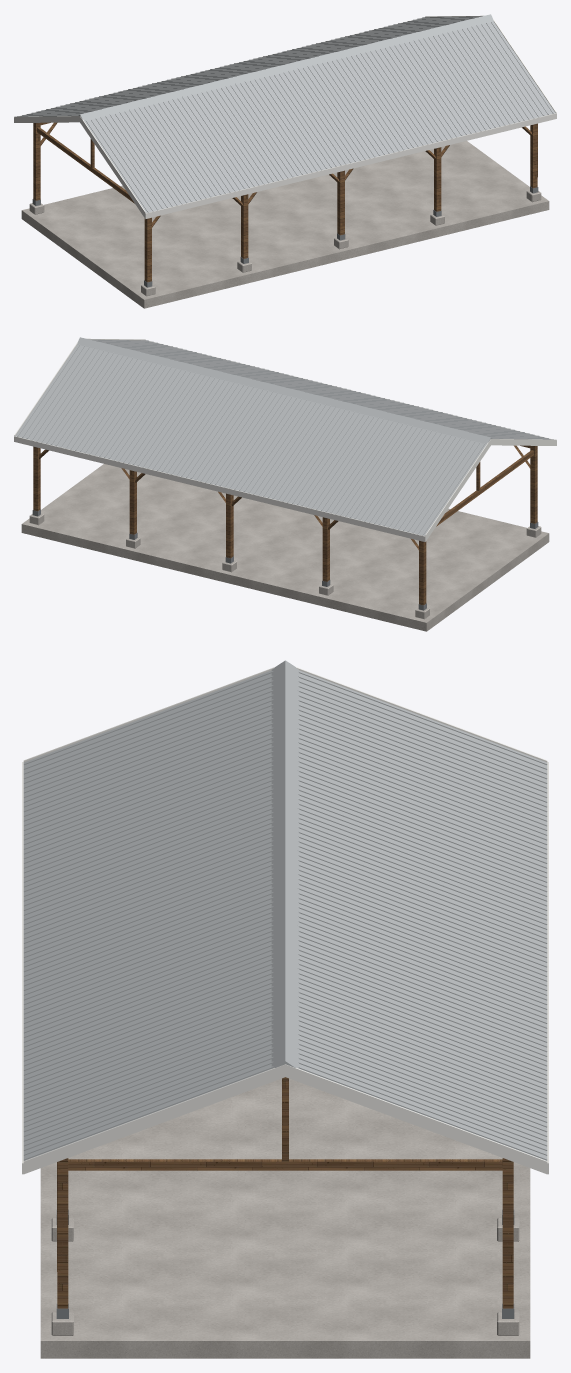
File: lumber_shed.glb
3 views of the same model, one above another, from view 1: azimuth 30°, elevation 25°; view 2: azimuth 150°, elevation 25°; view 3: azimuth 270°, elevation 25° (orthographic). The views are drawn at different scales.
Parts seen in each view (by area): view 1: lumber_shed_roofm, lumber_shed_concrete, lumber_shed_post, lumber_shed_trim; view 2: lumber_shed_roofm, lumber_shed_concrete, lumber_shed_post, lumber_shed_trim; view 3: lumber_shed_roofm, lumber_shed_concrete, lumber_shed_trim, lumber_shed_post.
Boxes of the visible parts, x1,y1,x2,y2 form: lumber_shed_roofm: (17, 14, 555, 212); lumber_shed_concrete: (21, 141, 549, 308); lumber_shed_post: (33, 122, 537, 282); lumber_shed_trim: (14, 15, 556, 218); lumber_shed_roofm: (15, 337, 553, 535); lumber_shed_concrete: (21, 464, 549, 631); lumber_shed_post: (33, 445, 537, 605); lumber_shed_trim: (14, 338, 556, 541); lumber_shed_roofm: (23, 660, 547, 1160); lumber_shed_concrete: (40, 1078, 530, 1358); lumber_shed_trim: (22, 667, 548, 1174); lumber_shed_post: (57, 1077, 513, 1308).
Size of the model in its own units: 17.06 by 5.95 by 9.46.
5 materials, 2 textured.
